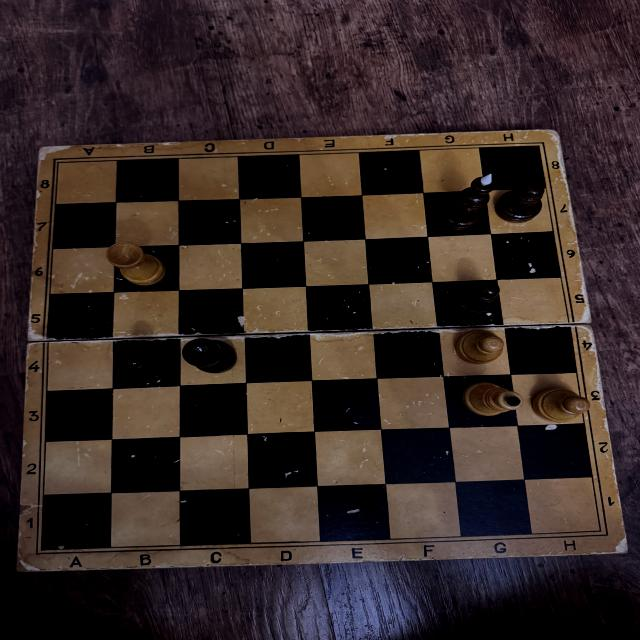black-king: (441, 172, 494, 232)
black-pawn: (119, 342, 172, 383), (496, 180, 546, 223), (454, 279, 502, 316)
black-rook: (180, 337, 240, 377)
white-king: (461, 381, 524, 418)
white-pawn: (532, 386, 591, 423), (455, 329, 504, 365)
white-rook: (106, 242, 166, 286)
